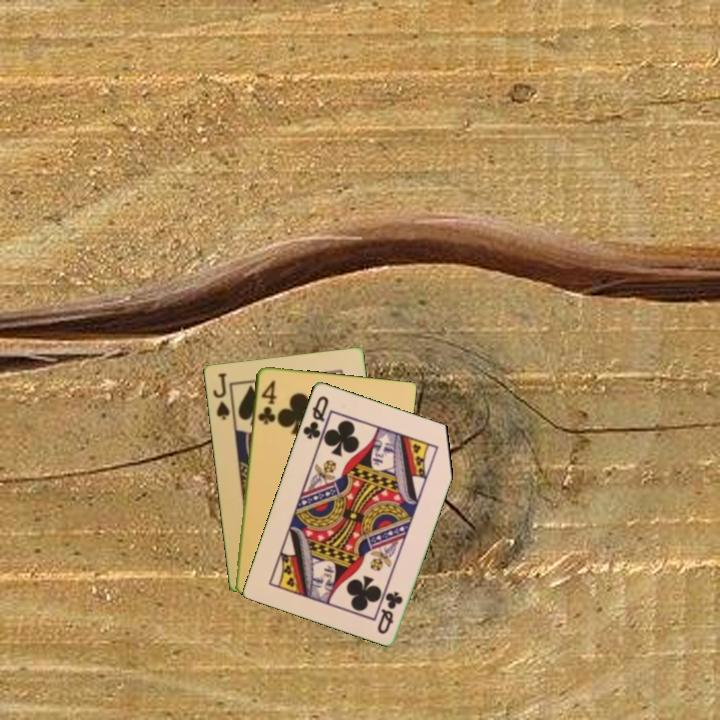4c: (254, 377, 279, 427)
Js: (209, 369, 232, 423)
Qc: (373, 587, 406, 637), (299, 392, 331, 442)
